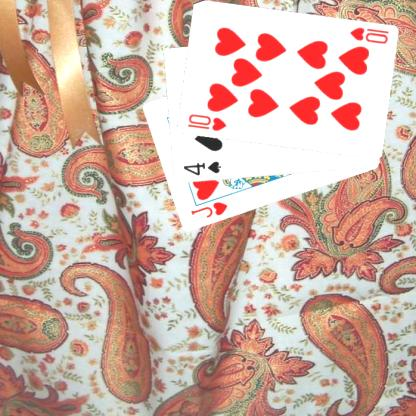10H: (184, 111, 228, 133), (347, 24, 390, 46)
4S: (180, 158, 222, 178)
JH: (188, 199, 229, 219)
